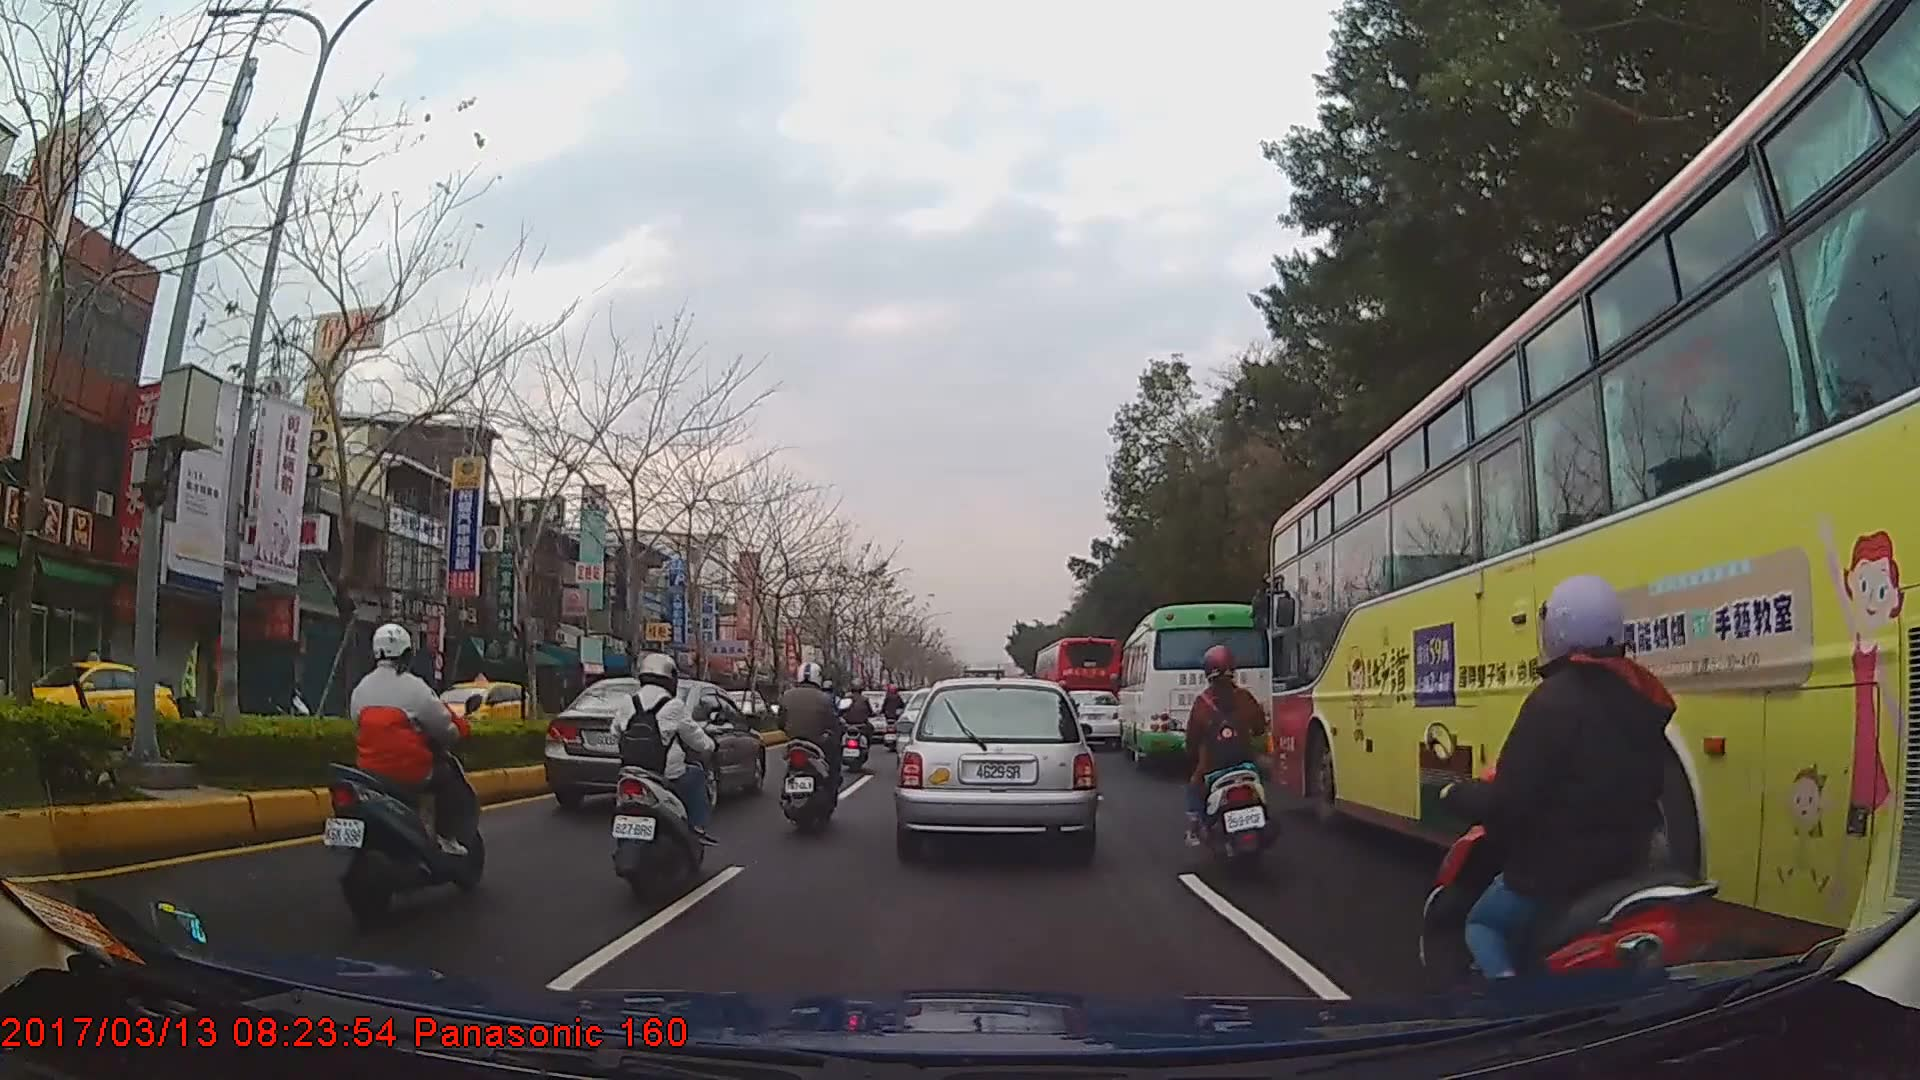rider: (1425, 575, 1742, 1025), (324, 621, 487, 920), (609, 651, 715, 910), (1178, 643, 1275, 870), (769, 661, 846, 833), (839, 678, 878, 771), (881, 682, 906, 751)
vehicle: (1265, 0, 1920, 979), (896, 673, 1095, 857), (540, 675, 767, 811), (1115, 602, 1272, 772), (0, 653, 178, 752), (414, 669, 537, 749), (1033, 634, 1118, 740), (1058, 688, 1123, 744)
